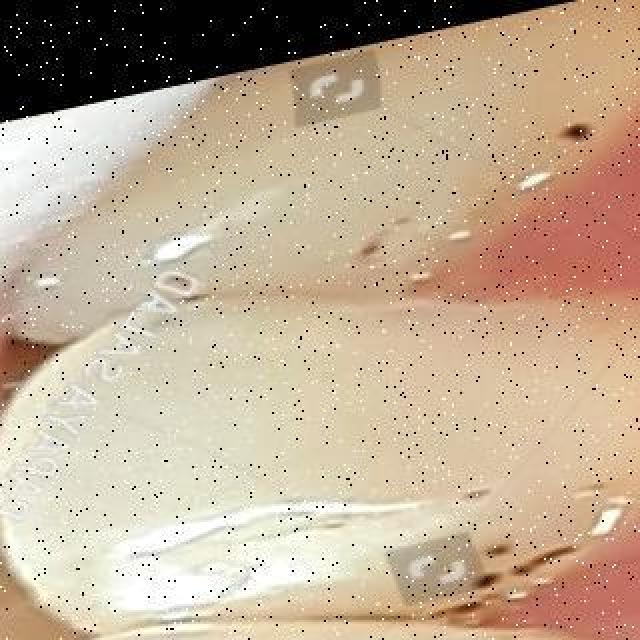stains: (346, 52, 640, 286), (384, 468, 640, 640)
